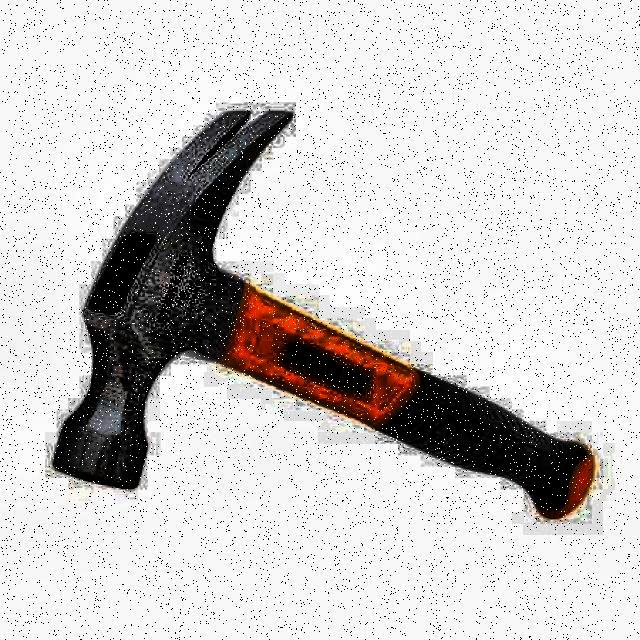hammer: (41, 106, 595, 525)
